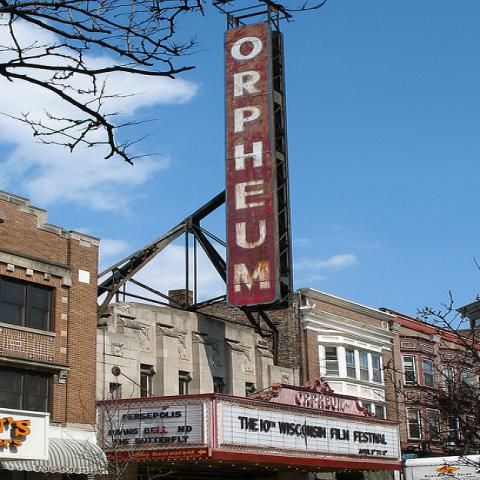truck: (403, 454, 479, 479)
